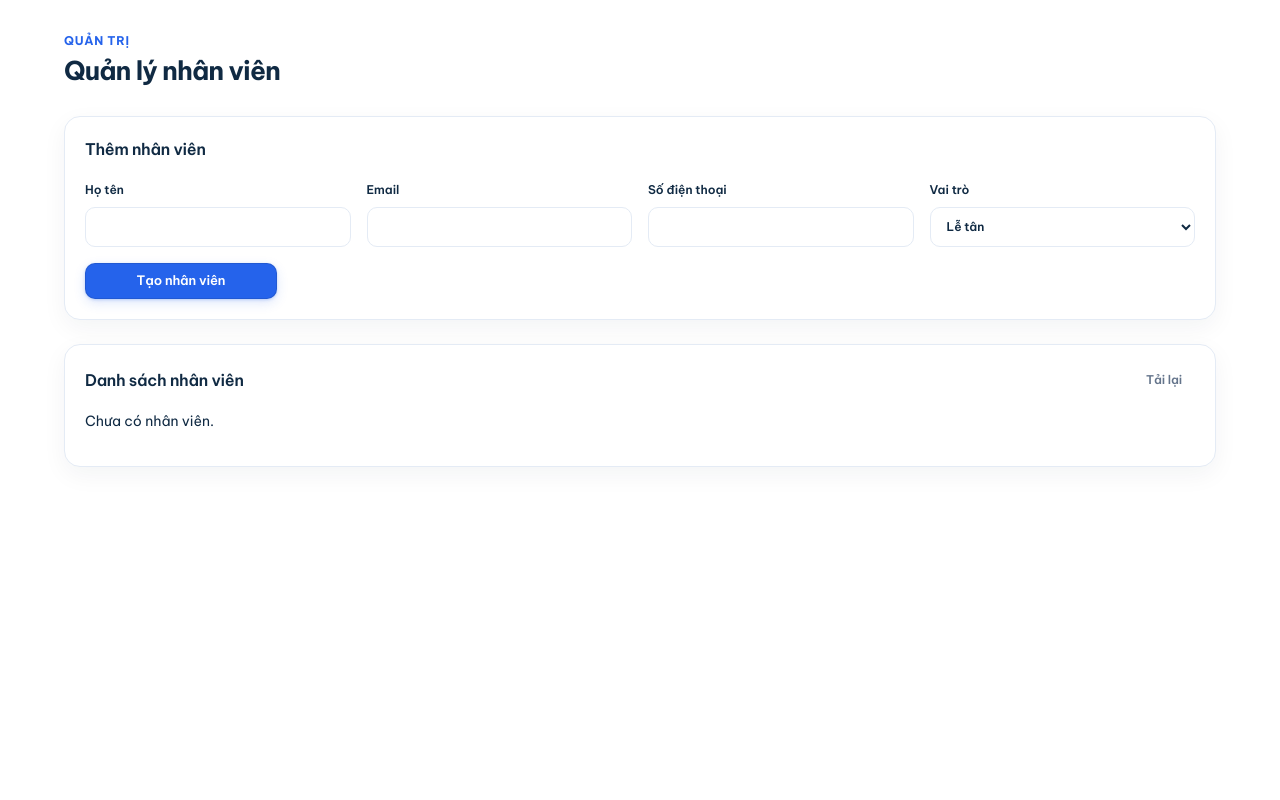
Test case: StaffPage › creates staff and renders the one-time temporary password
The image size is (1280, 800).
Expected: the text "Chưa có nhân viên." is shown, [85, 412, 214, 430]
Type "Lan" into the field labelled "Họ tên".
click(218, 227); type("Lan")  # box [85, 207, 350, 247]
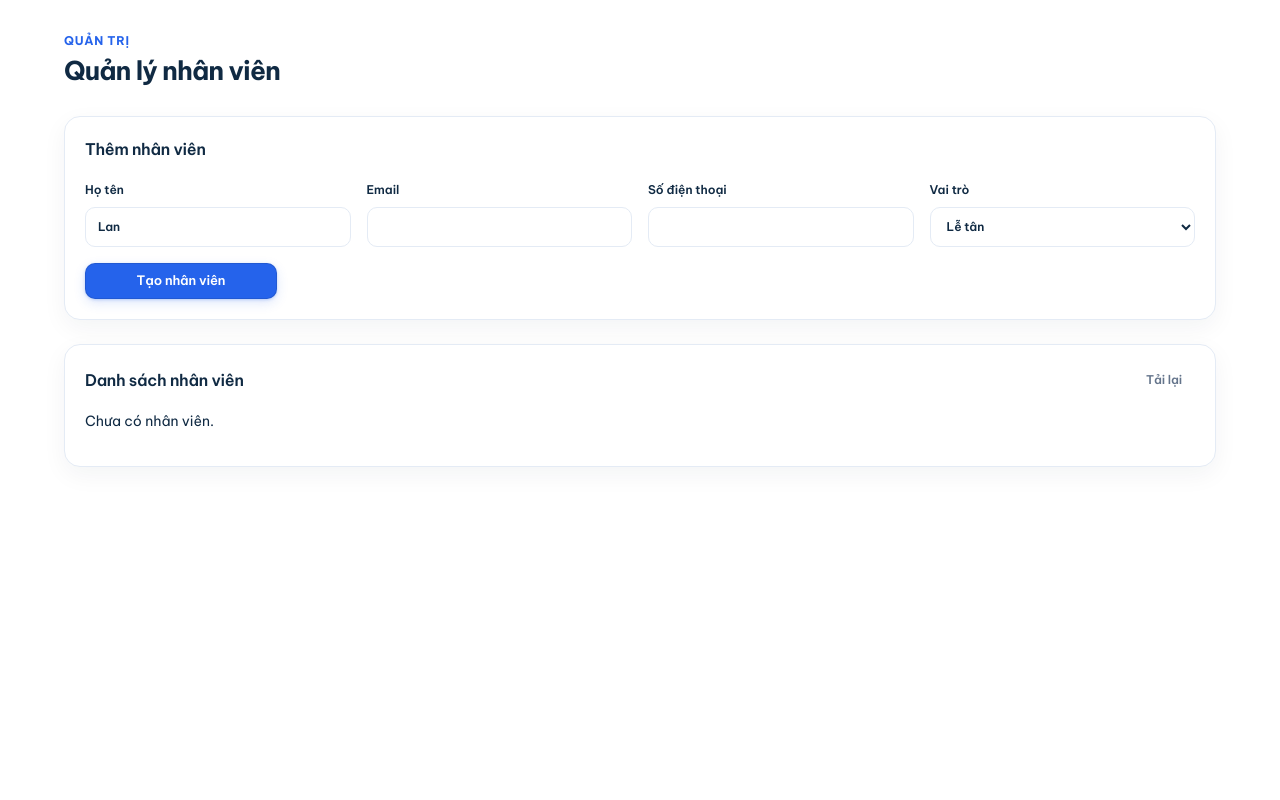
Type "lan@example.test" into the field labelled "Email".
click(499, 227); type("lan@example.test")  # box [366, 207, 632, 247]
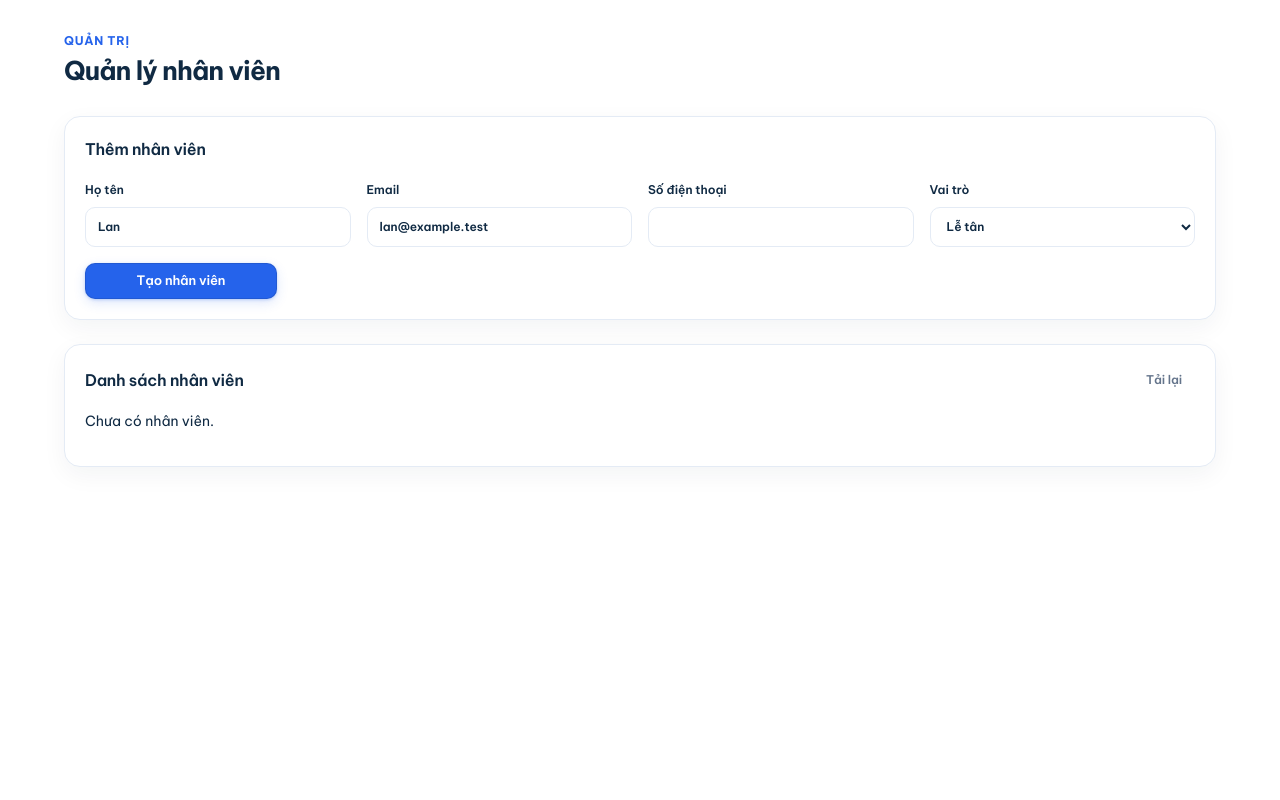
Type "0901234567" into the field labelled "Số điện thoại".
click(781, 227); type("0901234567")  # box [648, 207, 914, 247]
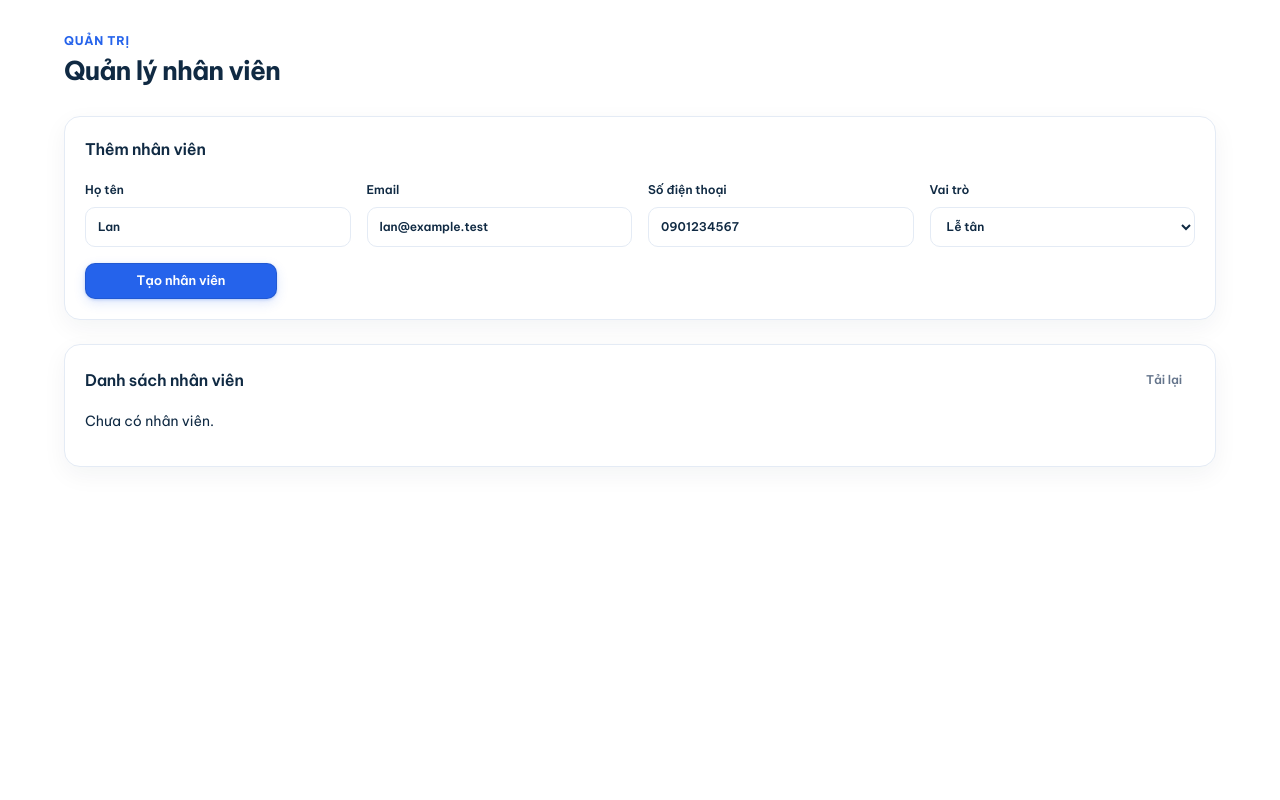
Click the button "Tạo nhân viên".
click(181, 281)  # box [85, 263, 277, 299]
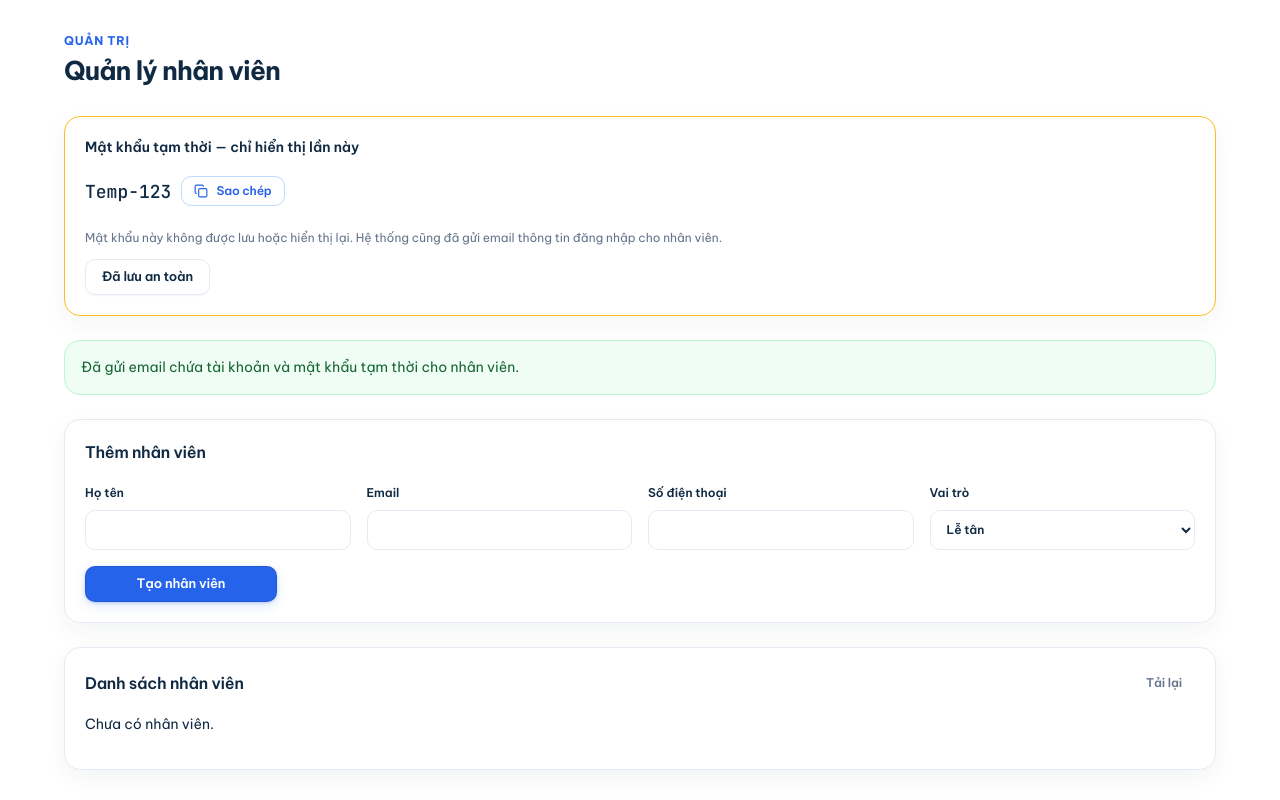
Expected: the text "Temp-123" is shown, [85, 178, 171, 205]
